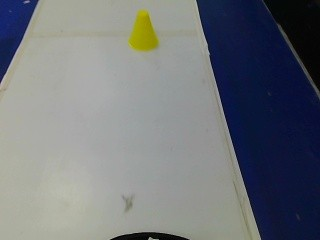cone: (123, 8, 162, 52)
